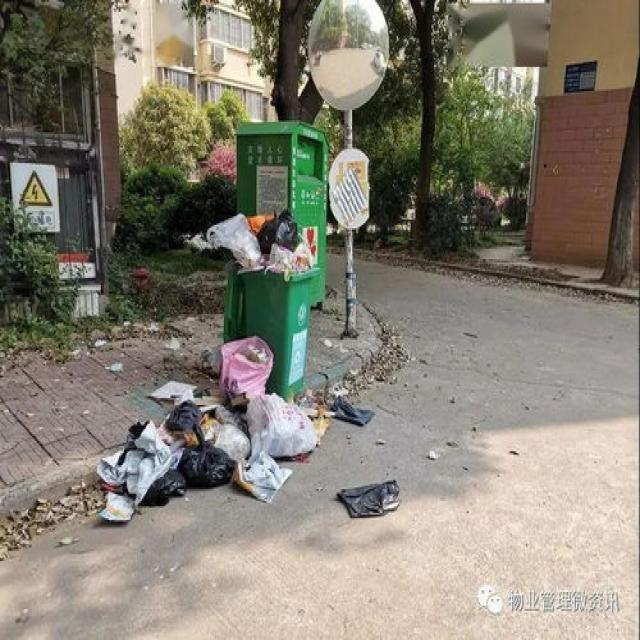garbage: (98, 331, 400, 523)
overflow: (212, 213, 320, 396)
